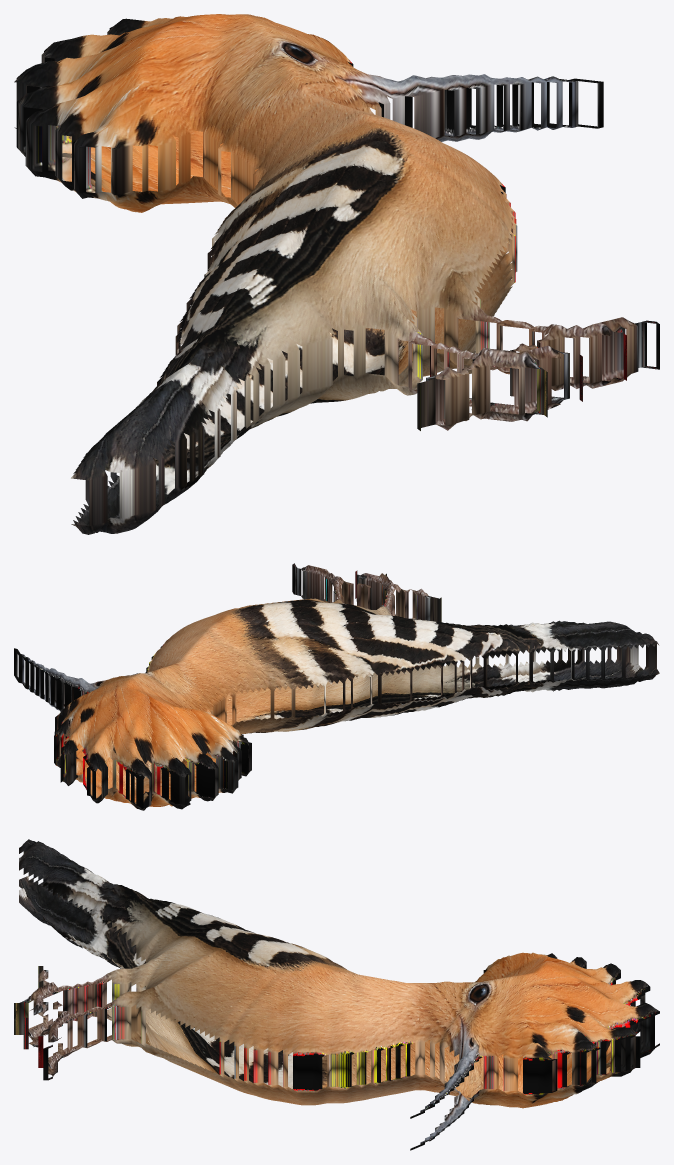
Rendered from hoopoe.glb.
3 renders of one model, top to bottom at view 1: azimuth 30°, elevation 25°; view 2: azimuth 150°, elevation 25°; view 3: azimuth 270°, elevation 25°, orthographic. The views are drawn at different scales.
Parts seen in each view (by area): view 1: hoopoe_obj; view 2: hoopoe_obj; view 3: hoopoe_obj.
Boxes of the visible parts, x1=… form: hoopoe_obj: x1=14, y1=14, x2=659, y2=534; hoopoe_obj: x1=14, y1=563, x2=659, y2=810; hoopoe_obj: x1=14, y1=839, x2=659, y2=1150.
Size of the model in its own units: 1.77 by 0.44 by 1.76.
1 material, 1 textured.
